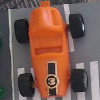naranja_sur: (14, 1, 88, 99)
